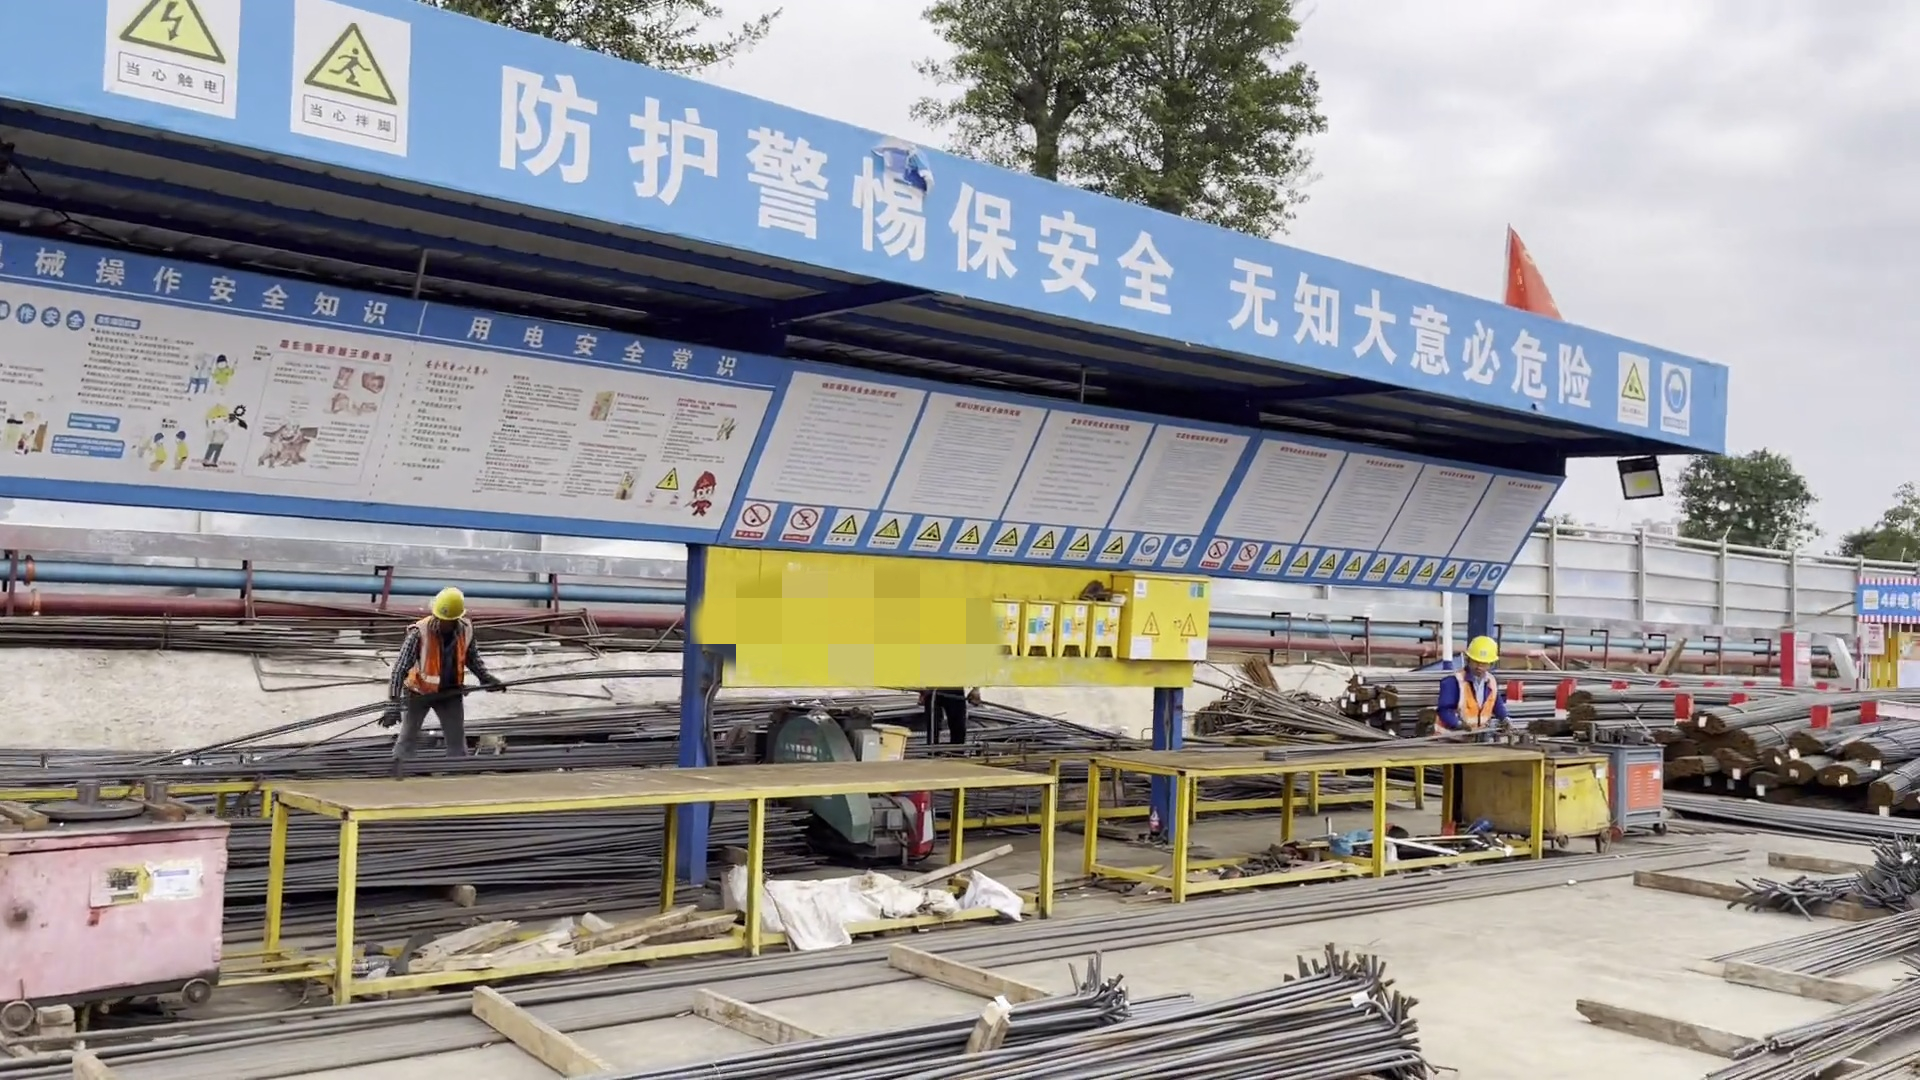ebox: (1119, 567, 1215, 669)
helmet: (430, 589, 469, 622), (1467, 638, 1499, 668)
person: (370, 585, 512, 763), (1437, 635, 1515, 737)
rebar: (622, 923, 1436, 1080), (1708, 987, 1920, 1079), (1694, 684, 1890, 733), (1737, 708, 1836, 753), (1557, 682, 1778, 698), (1564, 704, 1706, 724), (1862, 761, 1920, 806), (1792, 722, 1867, 757), (1841, 727, 1916, 760), (1781, 752, 1825, 790), (1820, 764, 1871, 795), (1713, 751, 1764, 782), (1783, 754, 1834, 781), (1667, 756, 1724, 777), (1757, 745, 1788, 775), (1749, 770, 1783, 794)
slogan: (484, 71, 1574, 423)
vest: (405, 615, 470, 701), (1449, 669, 1501, 725)
